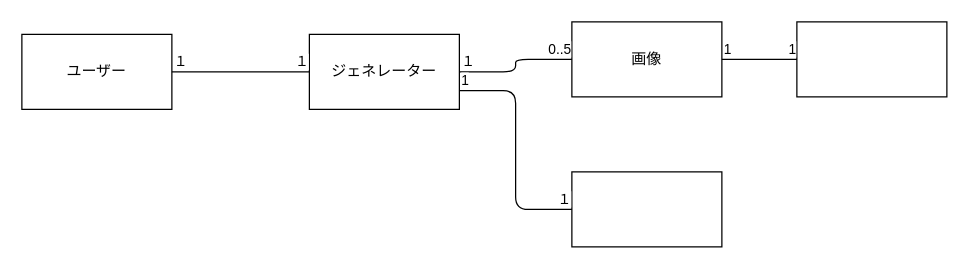
Image size: 969x269. Some labels were removed from this diagram. The shapes that lost their labels are listed below. From the top down, each one's box as (x1, y1, x2, y2) in pixels, then its label:
(796, 21, 947, 97): 生成タグ
(571, 171, 722, 247): imgタグ オプション
